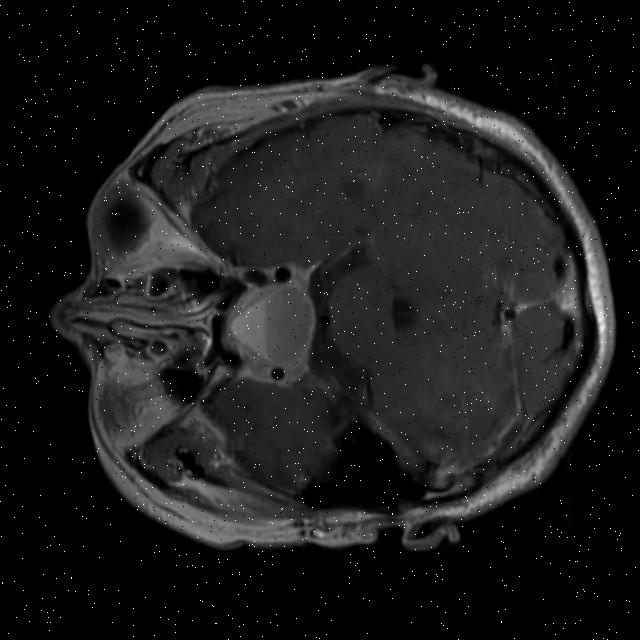Pituitary: (227, 279, 314, 366)
